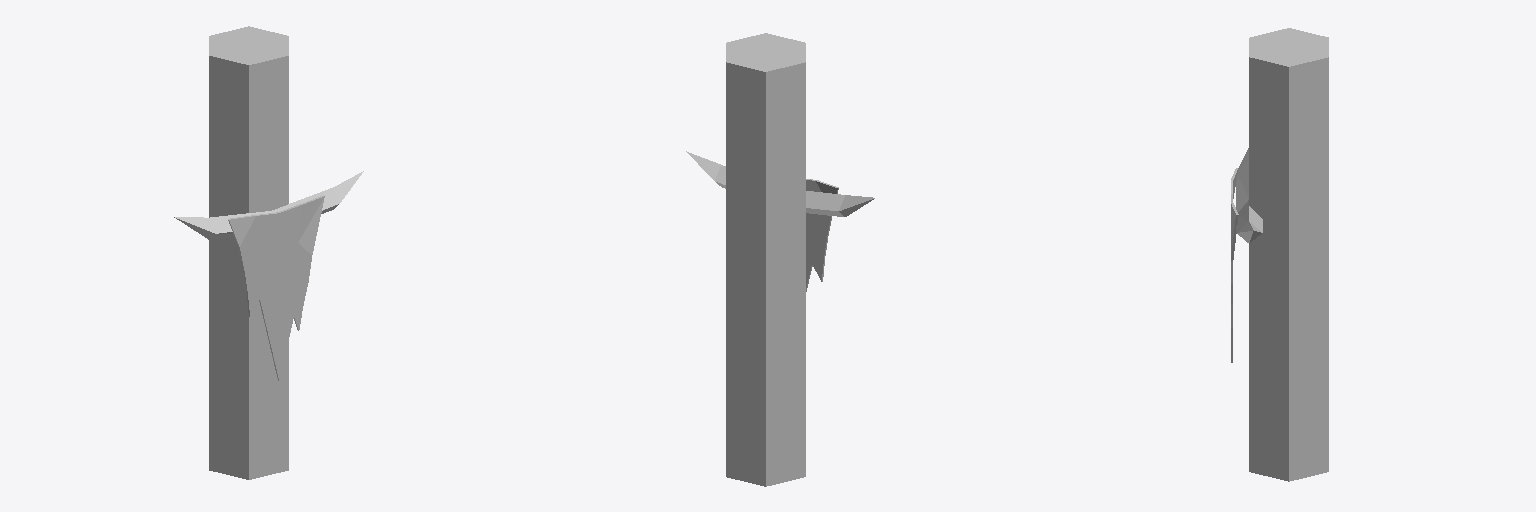
Rendered from poledevill.obj.
3 views of the same model, side by side, from view 1: azimuth 30°, elevation 25°; view 2: azimuth 150°, elevation 25°; view 3: azimuth 270°, elevation 25° (orthographic).
Parts seen in each view (by area): view 1: pasted__pole pasted__poledevil1 group, pasted__poledevil1 group pasted__rag, pasted__poledevil1 group pasted__bone; view 2: pasted__pole pasted__poledevil1 group, pasted__poledevil1 group pasted__bone, pasted__poledevil1 group pasted__rag; view 3: pasted__pole pasted__poledevil1 group, pasted__poledevil1 group pasted__bone, pasted__poledevil1 group pasted__rag.
Part boxes in pixels (x1,y1,x2,y2): pasted__pole pasted__poledevil1 group: (209, 26, 288, 479); pasted__poledevil1 group pasted__rag: (228, 195, 324, 381); pasted__poledevil1 group pasted__bone: (174, 171, 363, 239); pasted__pole pasted__poledevil1 group: (726, 33, 805, 486); pasted__poledevil1 group pasted__bone: (686, 151, 874, 216); pasted__poledevil1 group pasted__rag: (806, 179, 838, 291); pasted__pole pasted__poledevil1 group: (1249, 28, 1328, 481); pasted__poledevil1 group pasted__bone: (1236, 148, 1262, 243); pasted__poledevil1 group pasted__rag: (1231, 168, 1238, 362).
Size of the model in its own units: 17.55 by 36.44 by 7.84.